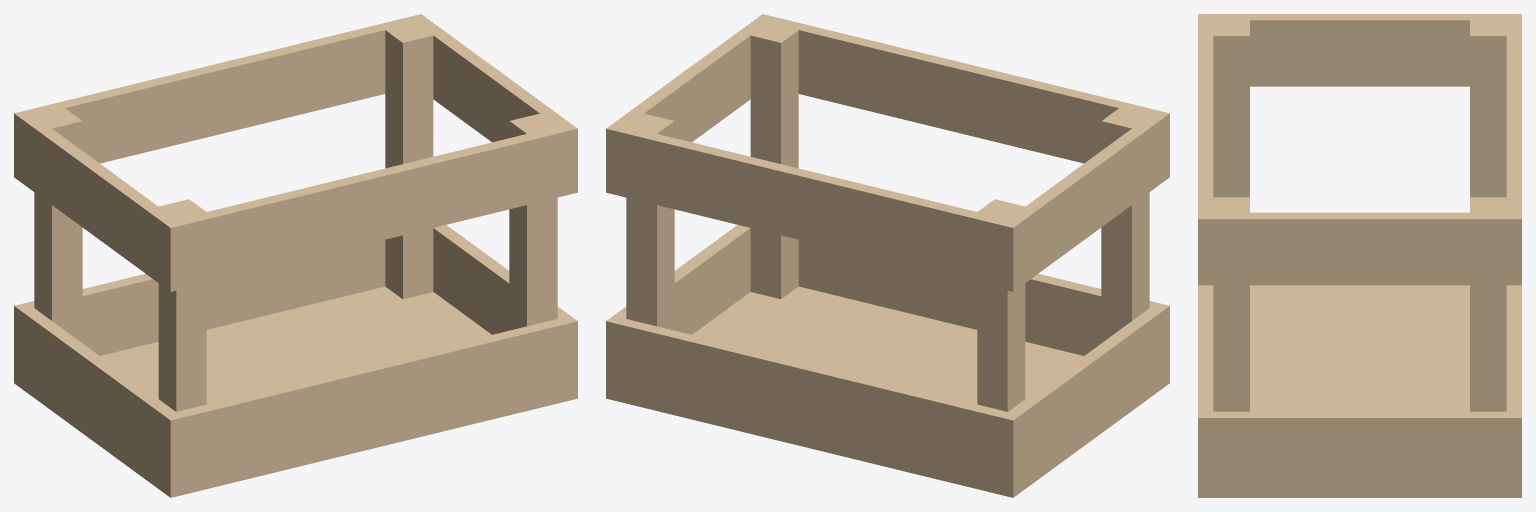
Rendered from wooden_crate.glb.
3 renders of one model, left to right at view 1: azimuth 30°, elevation 25°; view 2: azimuth 150°, elevation 25°; view 3: azimuth 270°, elevation 25°, orthographic. The views are drawn at different scales.
Visible parts, largest first — view 1: rail_high_front, rail_low_front, bottom, rail_high_back, rail_low_back, rail_high_left, rail_low_left, post_br, rail_high_right, post_bl, post_fr, post_fl (+1 smaller); view 2: rail_high_back, rail_low_back, bottom, rail_high_front, rail_low_front, rail_high_left, rail_low_left, post_fr, rail_high_right, post_fl, post_br, post_bl (+1 smaller); view 3: bottom, rail_high_right, rail_low_right, rail_high_left, post_fl, post_bl, post_fr, post_br, rail_high_front, rail_high_back, rail_low_front, rail_low_back.
Boxes of the visible parts, x1,y1,x2,y2 form: rail_high_front: (163,126,577,291); rail_low_front: (163,319,577,484); bottom: (14,286,577,497); rail_high_back: (14,17,415,182); rail_low_back: (14,240,385,374); rail_high_left: (14,110,183,285); rail_low_left: (14,302,183,478); post_br: (385,22,433,299); rail_high_right: (408,14,577,163); post_bl: (34,108,82,342); post_fr: (509,113,557,330); post_fl: (158,199,206,411); rail_high_back: (606,126,1020,291); rail_low_back: (606,319,1020,484); bottom: (606,286,1169,497); rail_high_front: (768,17,1169,182); rail_low_front: (798,240,1169,374); rail_high_left: (1000,110,1169,285); rail_low_left: (1000,302,1169,478); post_fr: (750,22,798,299); rail_high_right: (606,14,775,163); post_fl: (1101,108,1149,342); post_br: (626,113,674,330); post_bl: (977,199,1025,411); bottom: (1198,285,1521,497); rail_high_right: (1198,212,1521,285); rail_low_right: (1198,411,1521,483); rail_high_left: (1198,14,1521,86); post_fl: (1213,20,1249,197); post_bl: (1470,20,1506,197); post_fr: (1213,197,1249,411); post_br: (1470,197,1506,411); rail_high_front: (1198,20,1213,285); rail_high_back: (1506,20,1521,285); rail_low_front: (1198,285,1213,483); rail_low_back: (1506,285,1521,483).
Size of the model in its own units: 0.6 by 0.38 by 0.4.
